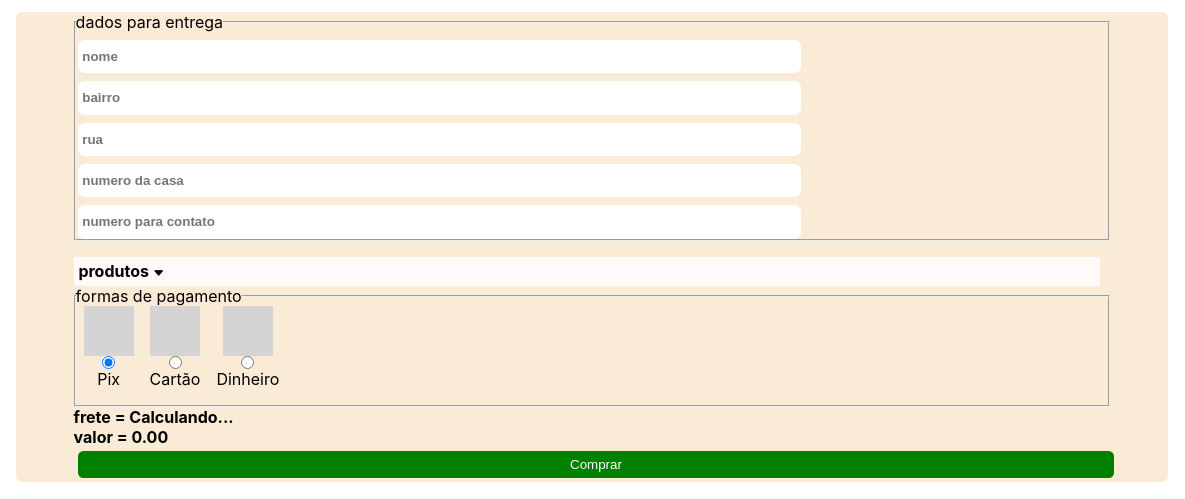
Test: Delivery component › seleciona corretamente a forma de pagamento
Click the radio button labelled "Cartão". click: (175, 363)
box: [168,356,182,369]
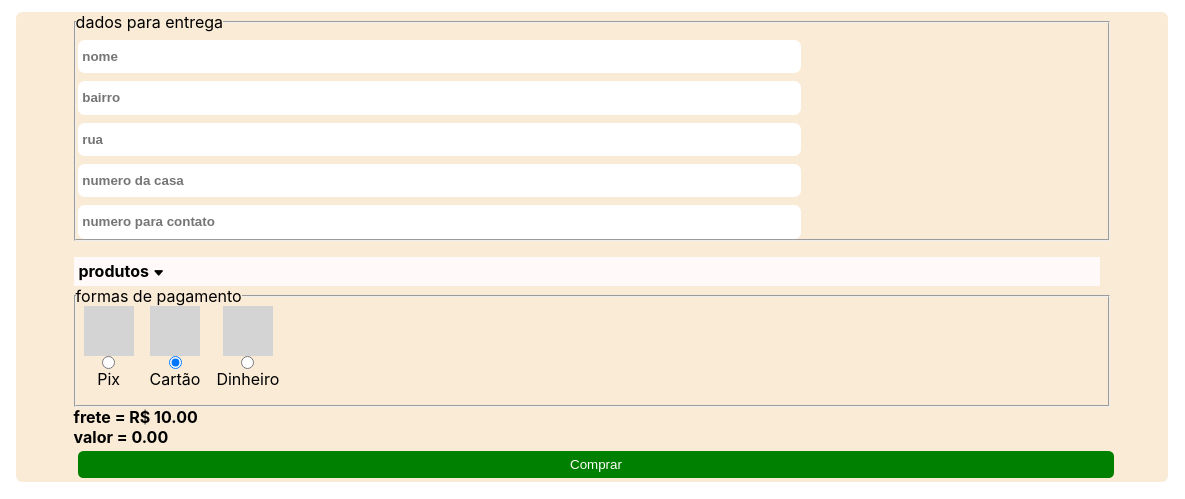
Check: the radio button labelled "Dinheiro" is not checked, box [241,356,254,369]
Check: the radio button labelled "Cartão" is checked, box [168,356,182,369]
Check: the radio button labelled "Pix" is not checked, box [102,356,115,369]
